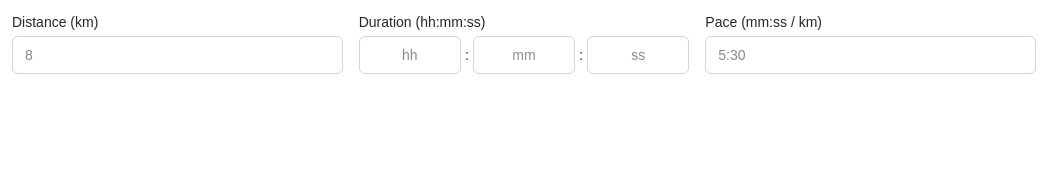
accepts an Auto distance override and can keep duration
In the field named "Duration (minutes)": coordinates (524, 55) [473,36,575,74], type "45"
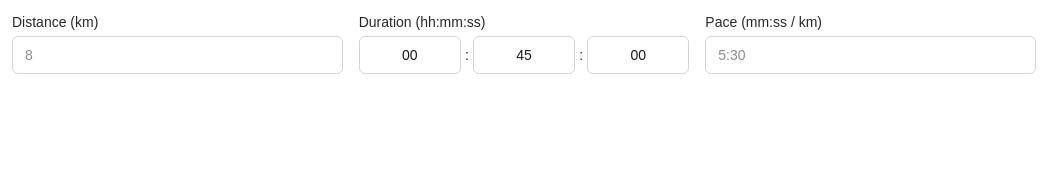
In the field labelled "Pace (mm:ss / km)": coordinates (871, 55) [705,36,1036,74], type "5:00"
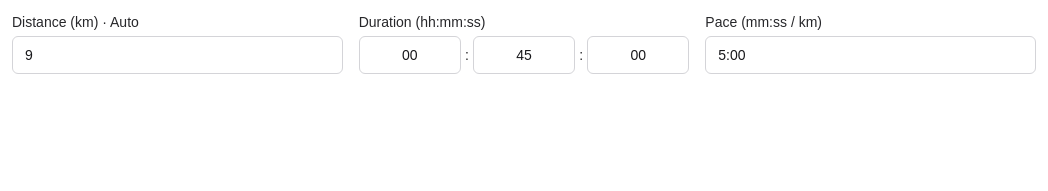
Replace the text in the field labelled "Distance (km) · Auto" with "10": coordinates (177, 55) [12,36,343,74]
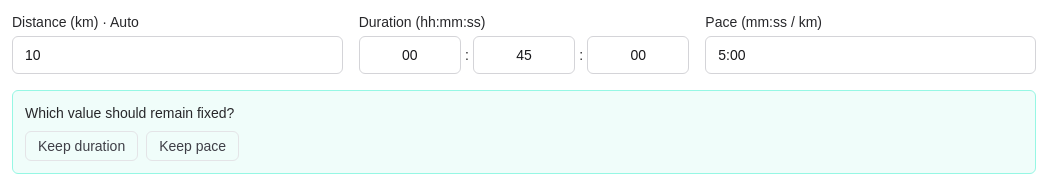
Click the button "Keep duration": coordinates (82, 146) [25,131,138,161]
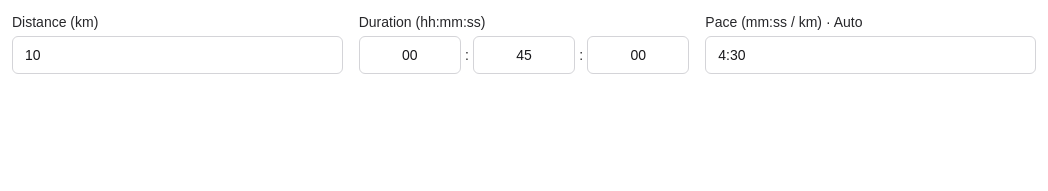
Expected: the field labelled "Pace (mm:ss / km) · Auto" holds "4:30", [705,36,1036,74]
